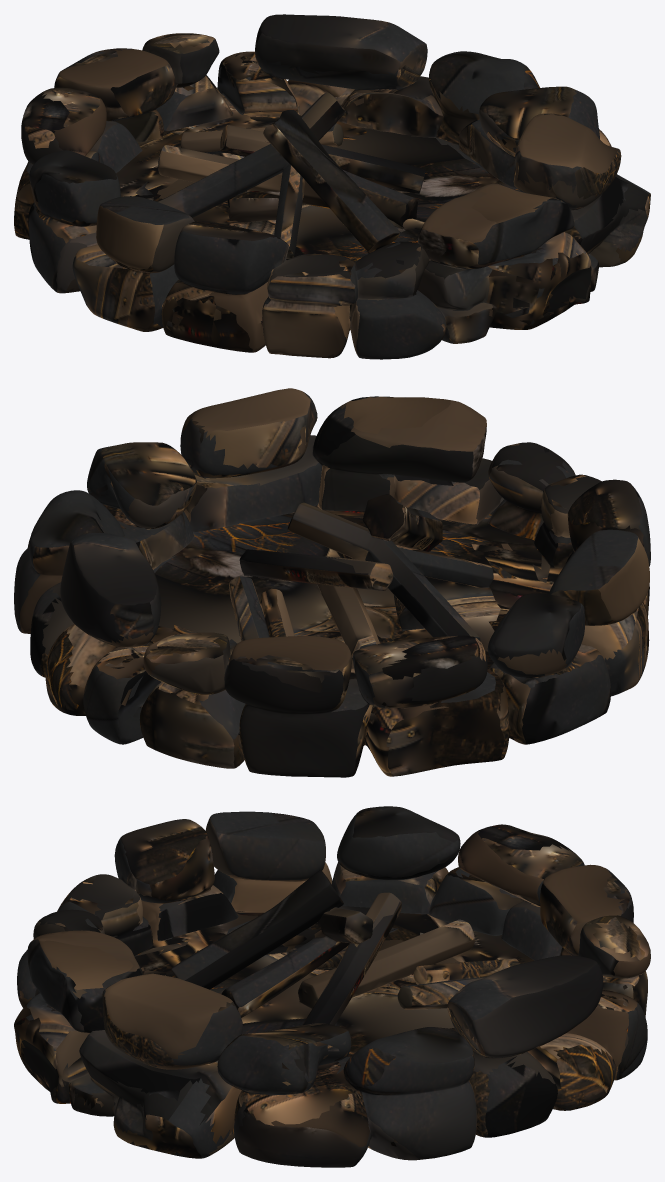
File: FirePitBig.fbx
3 renders of one model, top to bottom at view 1: azimuth 30°, elevation 25°; view 2: azimuth 150°, elevation 25°; view 3: azimuth 270°, elevation 25°, orthographic. The views are drawn at different scales.
Parts seen in each view (by area): view 1: FirePitBig; view 2: FirePitBig; view 3: FirePitBig.
Boxes of the visible parts, x1=… form: FirePitBig: x1=14, y1=14, x2=650, y2=359; FirePitBig: x1=14, y1=388, x2=650, y2=777; FirePitBig: x1=14, y1=806, x2=650, y2=1167.
Size of the model in its own units: 151 by 37.75 by 151.
